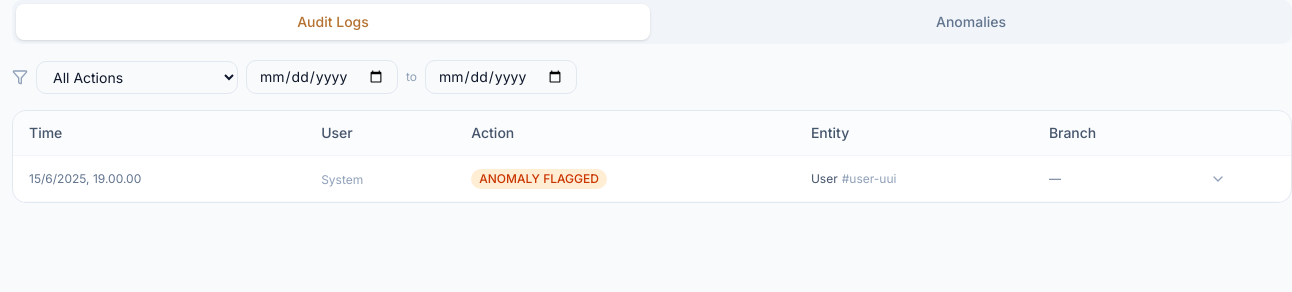
Test: audit feature › expands log row to show JSON details
Check: the text "System" is shown, box [321,172,363,186]
Click the text "ANOMALY FLAGGED". click: x=652, y=178
box: [13,156,1291,202]
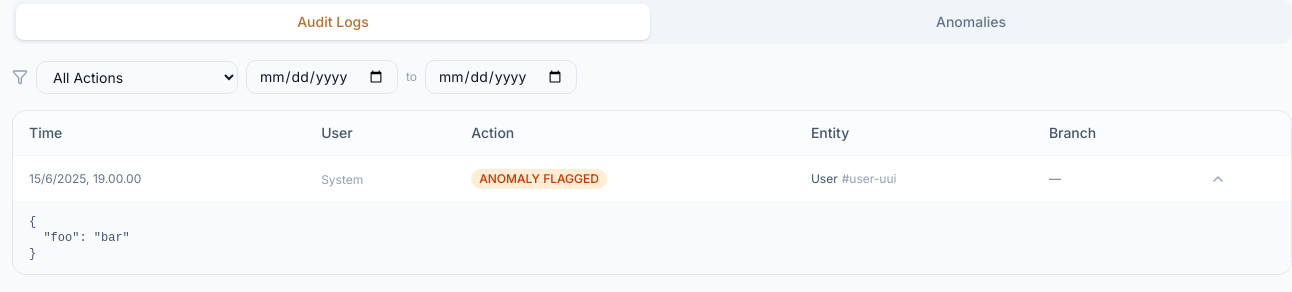
Check: the text "{ \"foo\": \"bar\" }" is shown, box [29,215,130,261]
